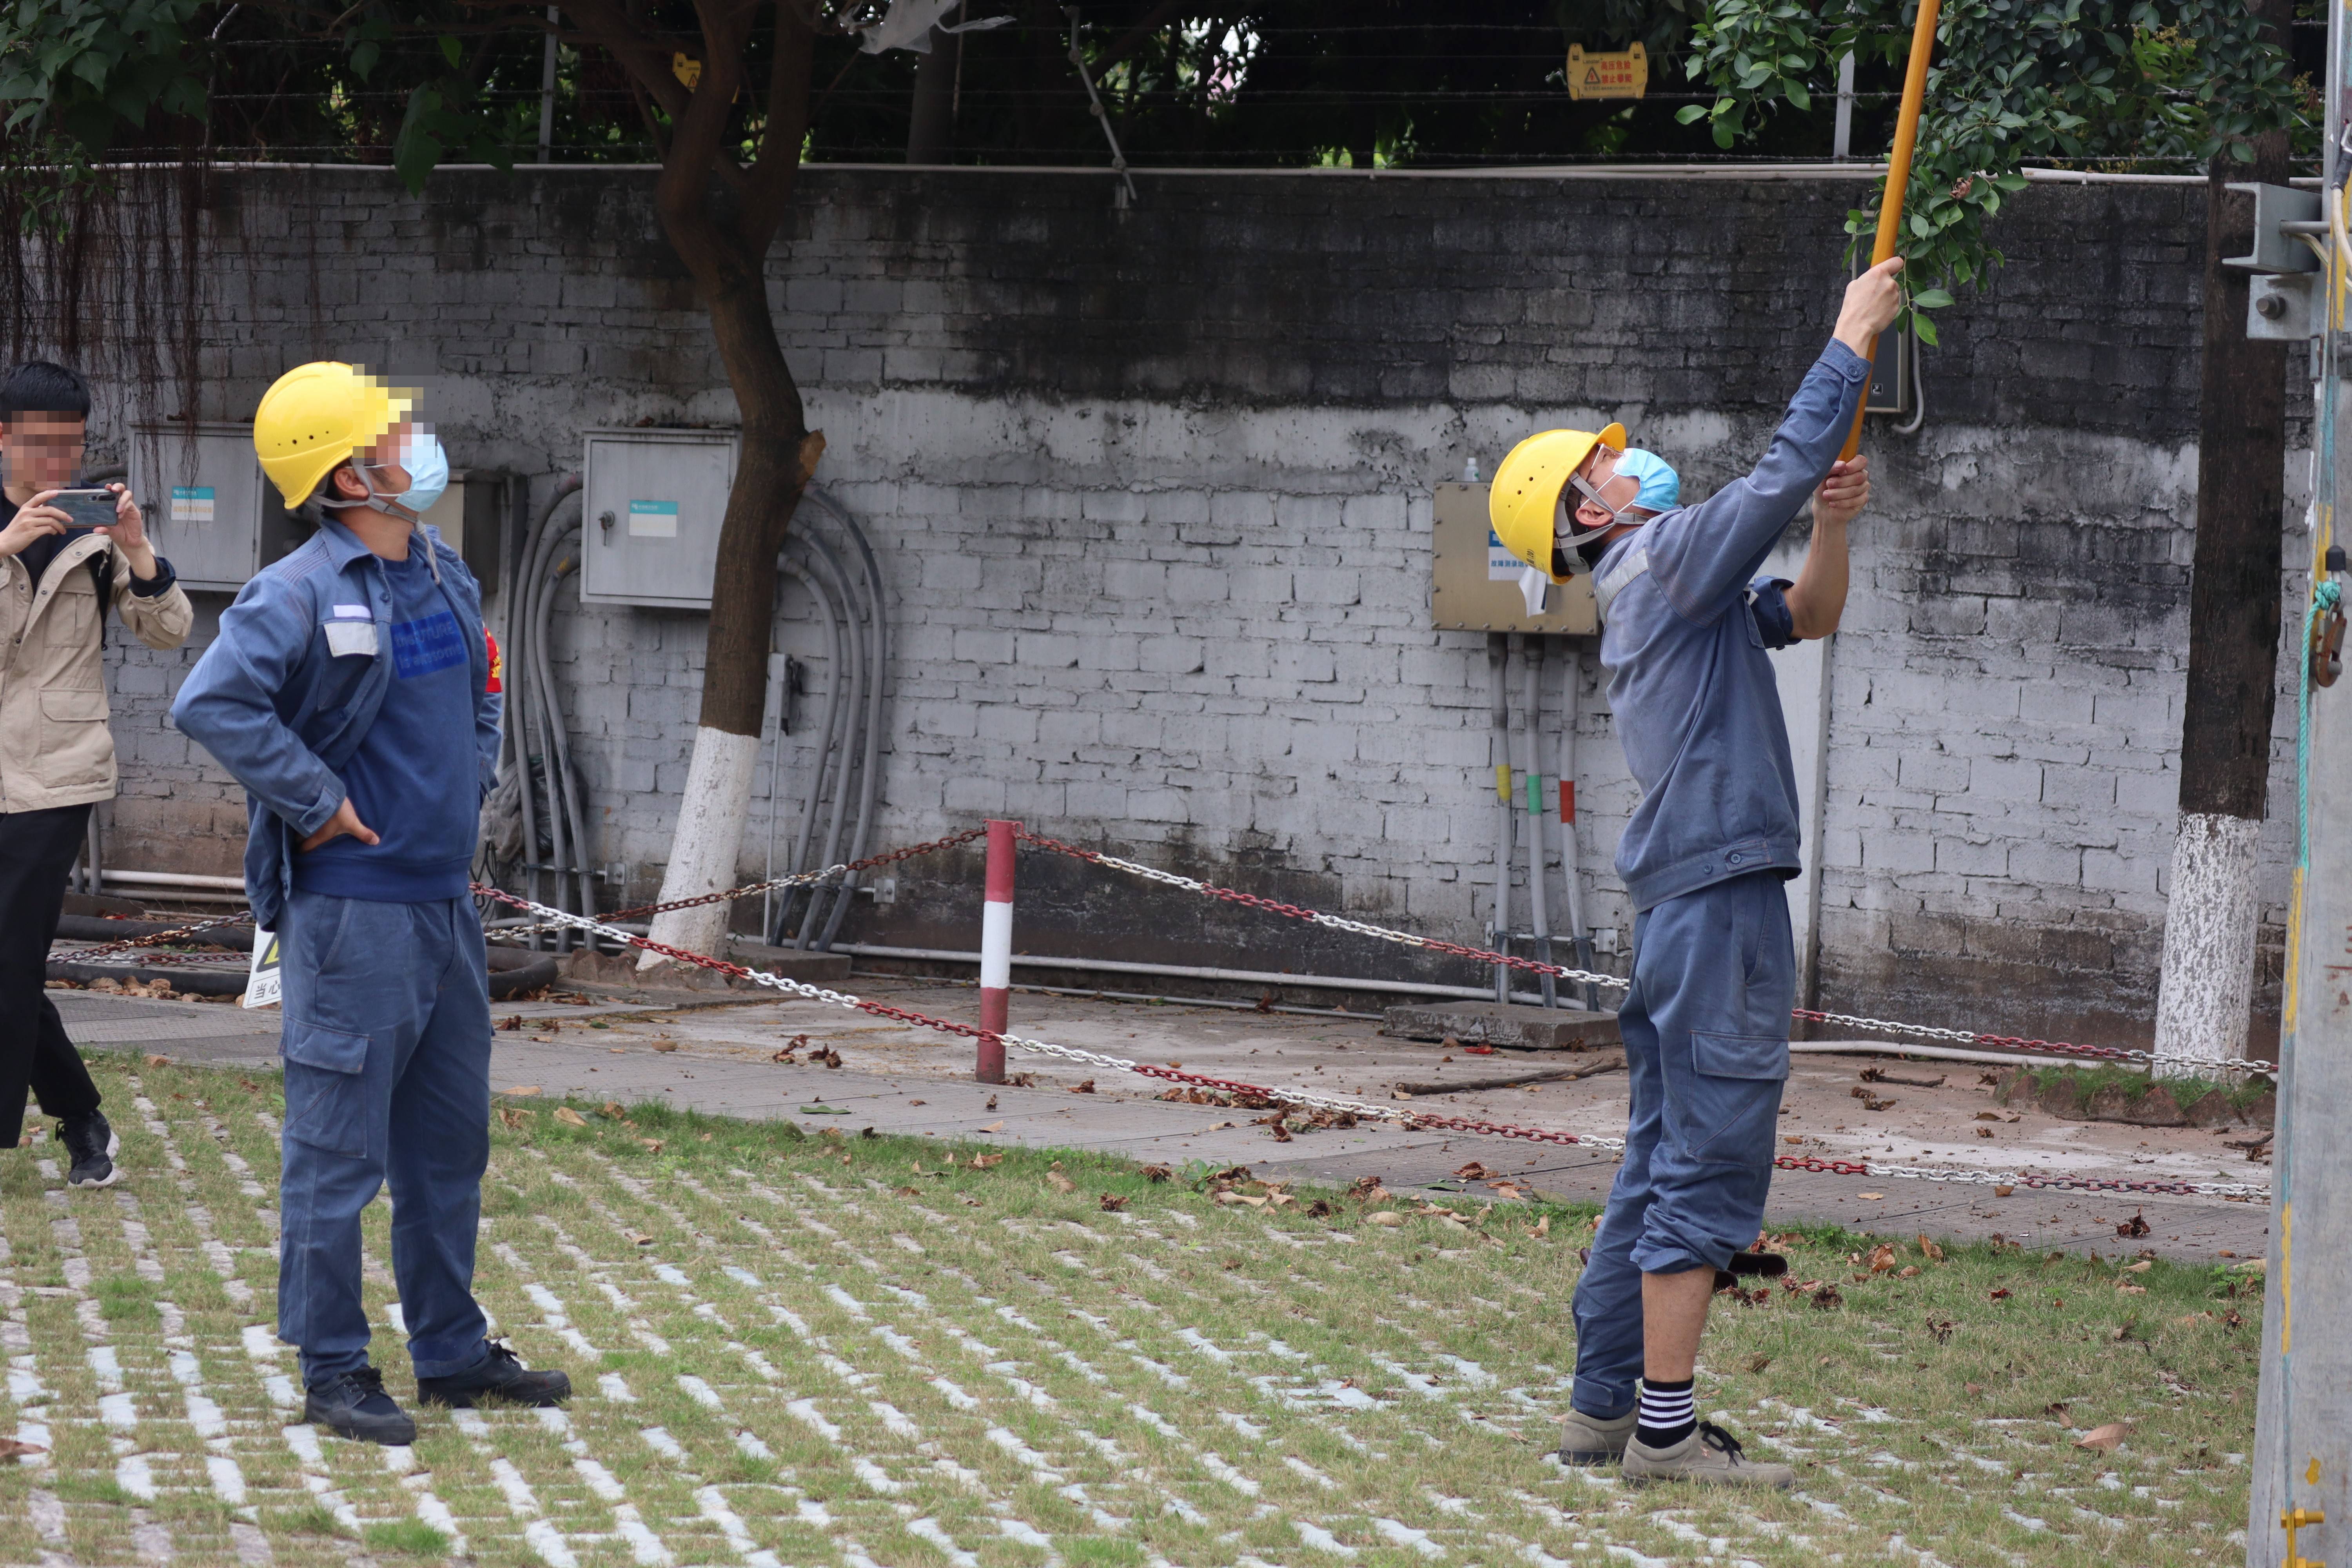downcloth: (2, 810, 114, 1148)
downsuit: (1559, 892, 1804, 1430), (271, 912, 500, 1358)
upcloth: (2, 490, 163, 800)
upsuit: (1589, 343, 1864, 898), (170, 513, 509, 905)
wrongbottom: (1628, 1214, 1745, 1419)
wrongsuit: (262, 548, 490, 891)
wrongtop: (1773, 478, 1855, 644)
